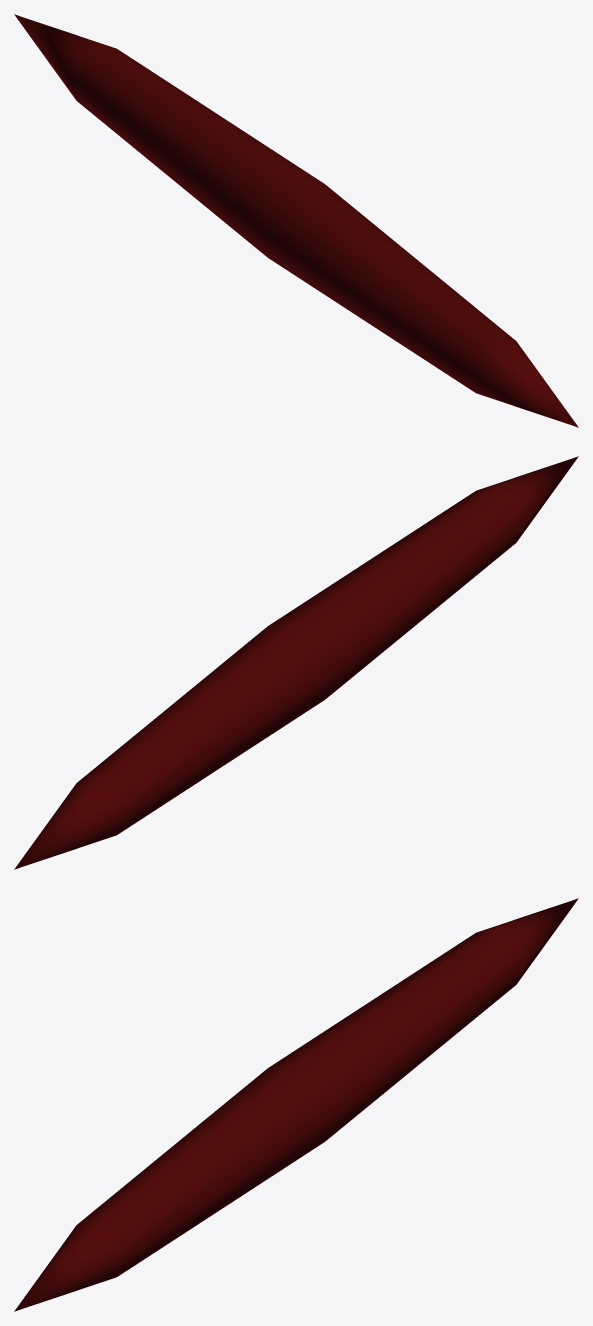
3 views of the same model, one above another, from view 1: azimuth 30°, elevation 25°; view 2: azimuth 150°, elevation 25°; view 3: azimuth 330°, elevation 25° (orthographic).
Parts seen in each view (by area): view 1: Sphere001; view 2: Sphere001; view 3: Sphere001.
Boxes of the visible parts, x1=… form: Sphere001: x1=14, y1=14, x2=578, y2=427; Sphere001: x1=14, y1=456, x2=578, y2=869; Sphere001: x1=14, y1=898, x2=578, y2=1311.
Bounding box in the file's own units: 19.2 × 19.2 × 233.
